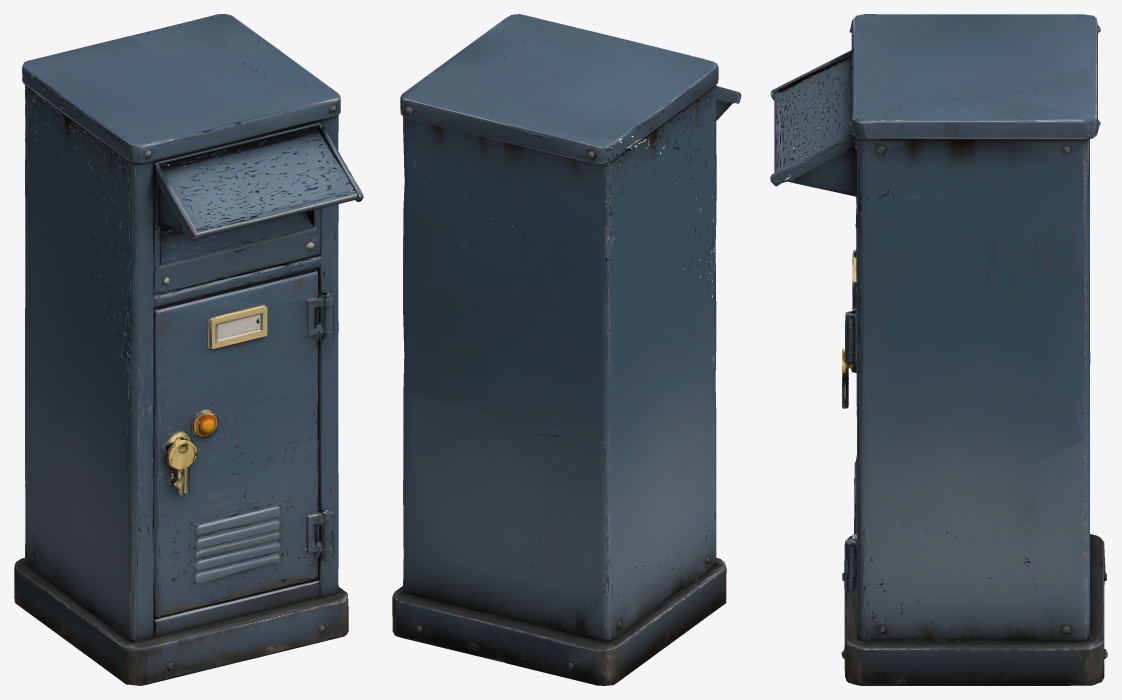
Rendered from ch05_archive_night_return.glb.
The picture shows the model from 3 angles, left to right: view 1: azimuth 30°, elevation 25°; view 2: azimuth 150°, elevation 25°; view 3: azimuth 270°, elevation 25°; orthographic projection. The views are drawn at different scales.
Parts seen in each view (by area): view 1: node_0; view 2: node_0; view 3: node_0.
Boxes of the visible parts, left/top/right/bottom form: node_0: left=14, top=14, right=363, bottom=685; node_0: left=392, top=14, right=741, bottom=685; node_0: left=770, top=14, right=1107, bottom=685.
Size of the model in its own units: 0.4389 by 1 by 0.5453.
Materials: 1 (1 with a texture image).
